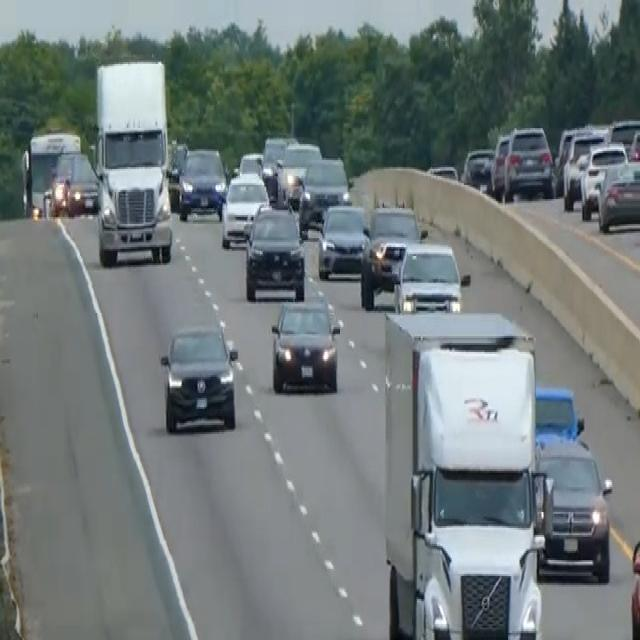bus: (19, 126, 81, 219)
car: (144, 297, 256, 460), (535, 432, 613, 583), (159, 320, 239, 434), (270, 293, 342, 395), (359, 201, 426, 306), (243, 201, 306, 300), (393, 238, 467, 313), (297, 154, 351, 236), (316, 199, 369, 281), (578, 138, 628, 218), (503, 123, 554, 201), (220, 169, 270, 247), (177, 144, 227, 220), (561, 130, 606, 210), (49, 149, 99, 217), (534, 382, 585, 448), (596, 156, 639, 233), (275, 138, 321, 204), (260, 134, 296, 198), (461, 146, 495, 194), (490, 130, 511, 197), (629, 532, 639, 638), (238, 149, 264, 178), (426, 162, 458, 181)
lorry: (380, 306, 552, 638), (92, 57, 174, 267)
